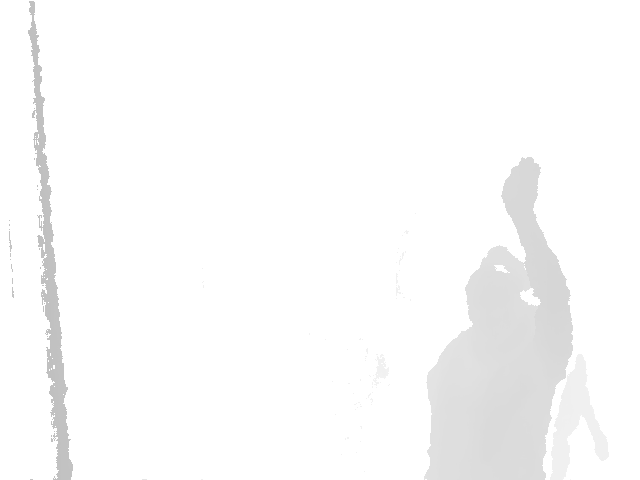hand: (502, 157, 541, 209)
head: (466, 247, 537, 329)
person: (421, 157, 574, 479)
